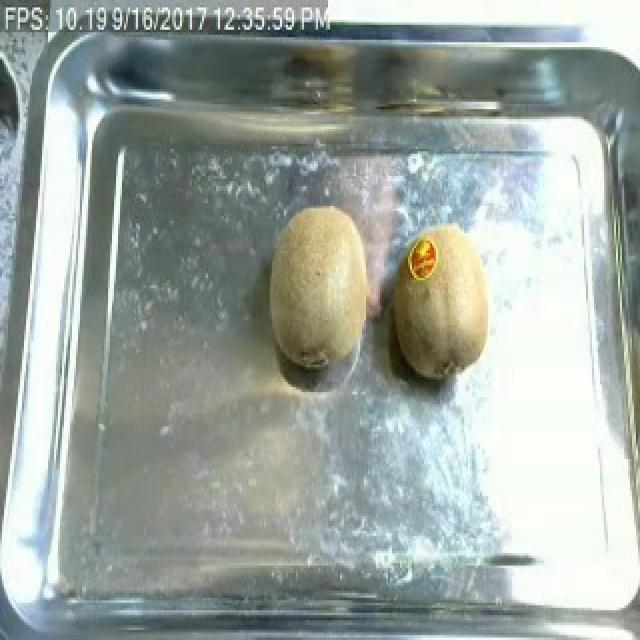Fruit: (258, 196, 378, 380), (380, 216, 502, 392)
